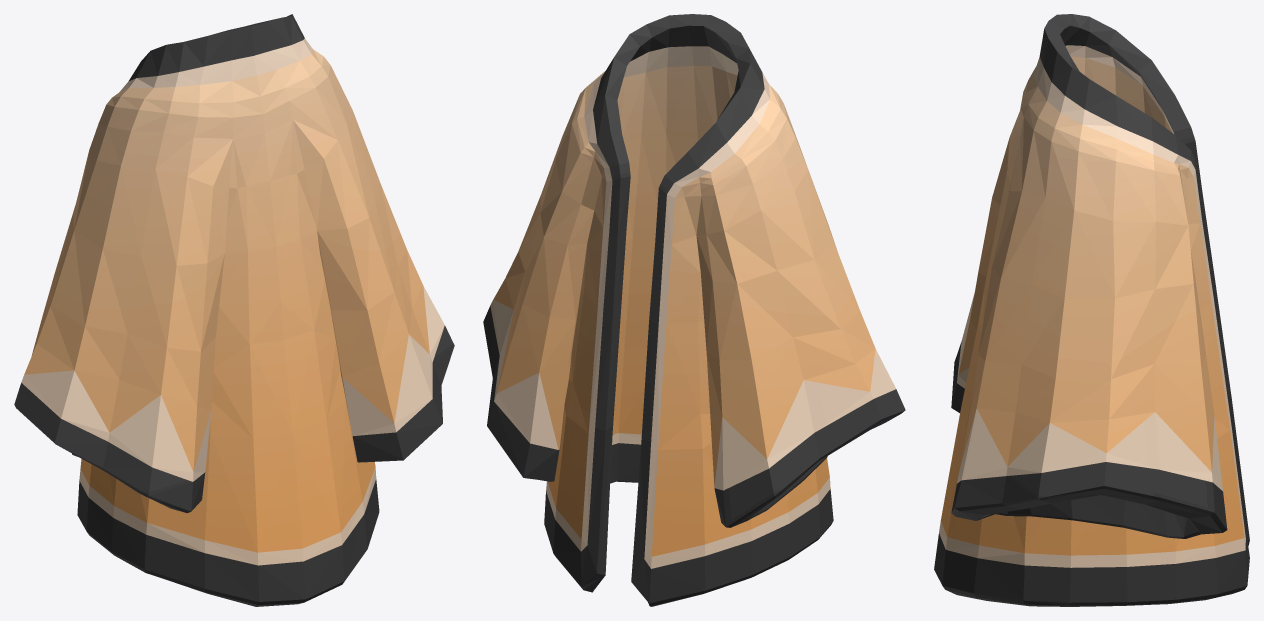
The model's file is CharSkyKid_Wing_AP09Robe_01.glb.
3 views of the same model, side by side, from view 1: azimuth 30°, elevation 25°; view 2: azimuth 150°, elevation 25°; view 3: azimuth 270°, elevation 25° (orthographic). The views are drawn at different scales.
Visible parts, largest first — view 1: CharSkyKid_Wing_AP09Robe_01; view 2: CharSkyKid_Wing_AP09Robe_01; view 3: CharSkyKid_Wing_AP09Robe_01.
Part boxes in pixels (bbox=[...]): CharSkyKid_Wing_AP09Robe_01: bbox=[14, 14, 454, 606]; CharSkyKid_Wing_AP09Robe_01: bbox=[483, 14, 905, 606]; CharSkyKid_Wing_AP09Robe_01: bbox=[934, 14, 1249, 606].
Bounding box in the file's own units: 6.61 × 8.26 × 4.29.
1 material, 1 textured.
